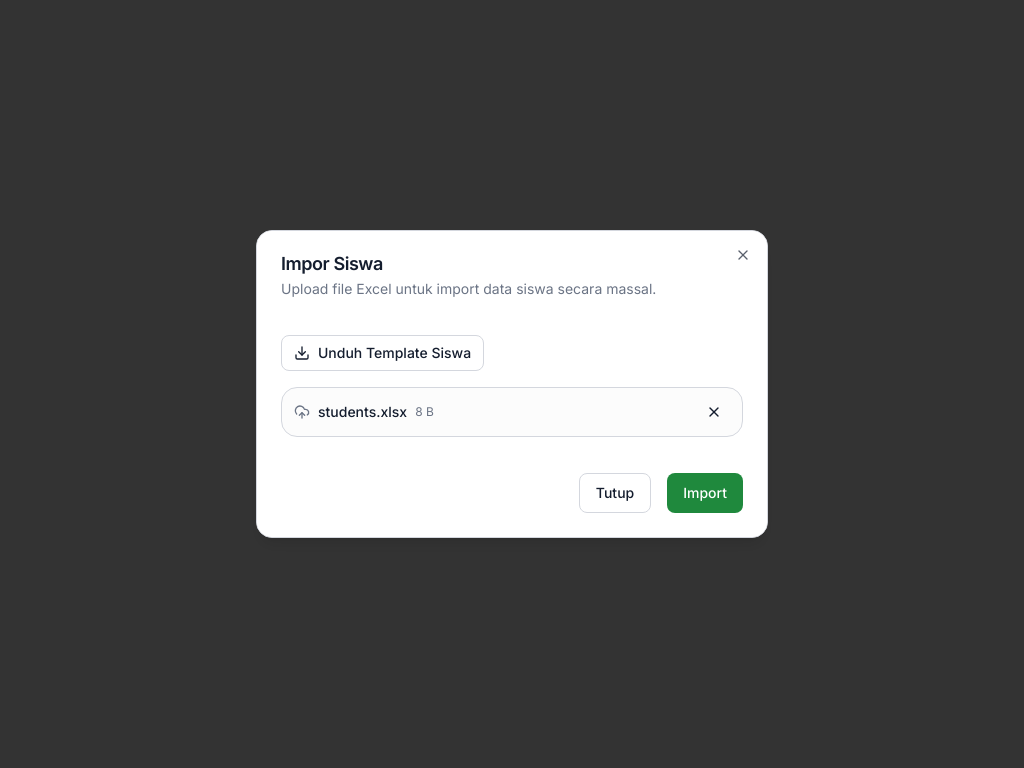
Scenario: ImportDialog › runs a successful import and shows the summary
Click the button "Import" at (705, 493), box [667,473,743,513]
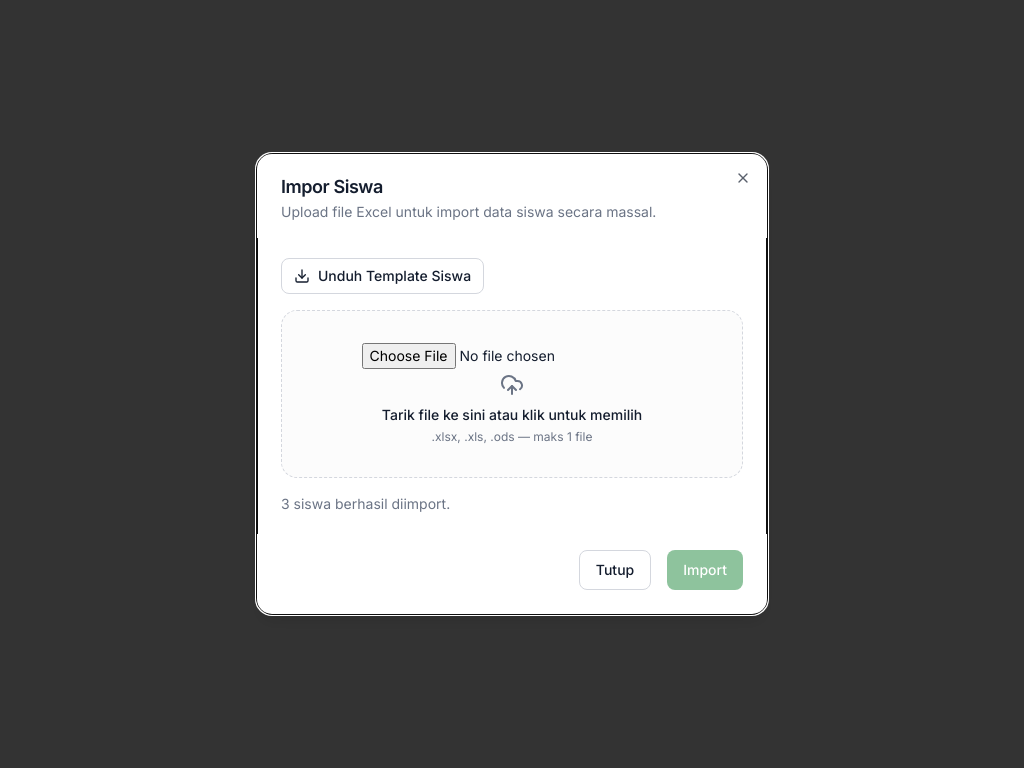
Expected: the text "3 siswa berhasil diimport." is shown, [281,495,450,512]
